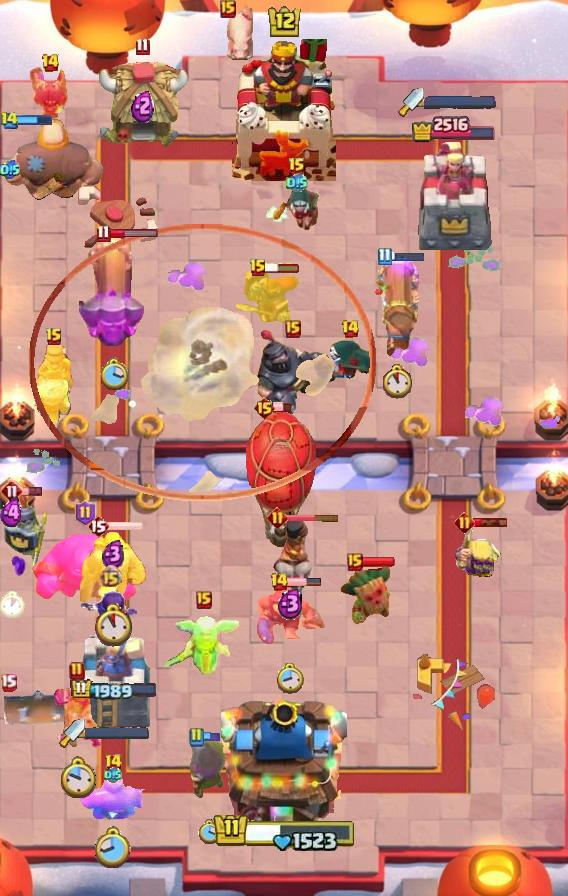arrows: (455, 529, 503, 580)
balloon: (0, 117, 106, 207)
bar: (412, 140, 494, 256), (75, 623, 153, 731)
battle-healer: (374, 255, 420, 359)
bomb-tower: (190, 738, 228, 800)
cannon-cart: (245, 411, 317, 551)
clock: (212, 809, 356, 851)
clone: (29, 531, 141, 603)
electro-spirit: (276, 588, 303, 620), (130, 89, 154, 123), (0, 497, 24, 529), (102, 539, 125, 569), (286, 173, 308, 193), (0, 160, 20, 180), (104, 767, 122, 783)
elite-barbarian: (31, 341, 77, 425), (272, 515, 316, 601)
elixir: (92, 603, 134, 647), (59, 756, 97, 800), (95, 826, 132, 870), (380, 364, 414, 399), (99, 357, 128, 392), (276, 663, 304, 695), (0, 590, 24, 617), (198, 819, 220, 845)
elixir-golem-big: (231, 264, 307, 330)
emote: (1, 114, 53, 126), (108, 229, 159, 240), (286, 513, 340, 523), (107, 520, 145, 532), (265, 262, 301, 274), (360, 556, 396, 568), (6, 486, 43, 497), (389, 250, 425, 261), (472, 516, 508, 527), (286, 577, 322, 587), (272, 402, 292, 413), (202, 731, 221, 742)
fireball: (254, 587, 326, 647)
furnace: (79, 234, 147, 346)
giant: (223, 2, 257, 64)
goblin-ball: (80, 588, 140, 644)
goblin-barrel: (339, 562, 395, 626)
goblin-hut: (80, 529, 146, 602)
golden-knight: (29, 63, 71, 123)
king-tower: (221, 690, 347, 826), (232, 39, 336, 181)
king-tower-bar: (424, 95, 496, 109), (85, 727, 149, 739)
minion: (0, 687, 122, 731)
poison: (160, 608, 248, 682)
prince: (95, 60, 189, 150)
princess: (0, 492, 50, 576)
royal-ghost: (29, 224, 375, 501)
royal-guardian: (254, 327, 332, 421)
selected: (410, 113, 496, 142), (70, 678, 158, 702)
tesla: (273, 181, 321, 233), (323, 340, 377, 382)
tesla-evolution: (51, 683, 103, 751)
text: (0, 479, 24, 503), (253, 396, 276, 420), (99, 564, 122, 588), (75, 500, 96, 526), (87, 514, 109, 538), (268, 507, 289, 529), (453, 511, 474, 532), (40, 53, 59, 73), (340, 319, 359, 339), (271, 572, 290, 592), (104, 753, 123, 773), (1, 111, 20, 130), (288, 157, 306, 177), (249, 258, 267, 278), (45, 327, 63, 347), (69, 661, 85, 681), (188, 727, 204, 747), (0, 673, 16, 692), (220, 0, 236, 18), (285, 320, 301, 338), (347, 553, 363, 571), (196, 591, 212, 609), (97, 225, 112, 244), (376, 246, 391, 265), (135, 36, 149, 55)
tornado: (76, 775, 150, 827)
